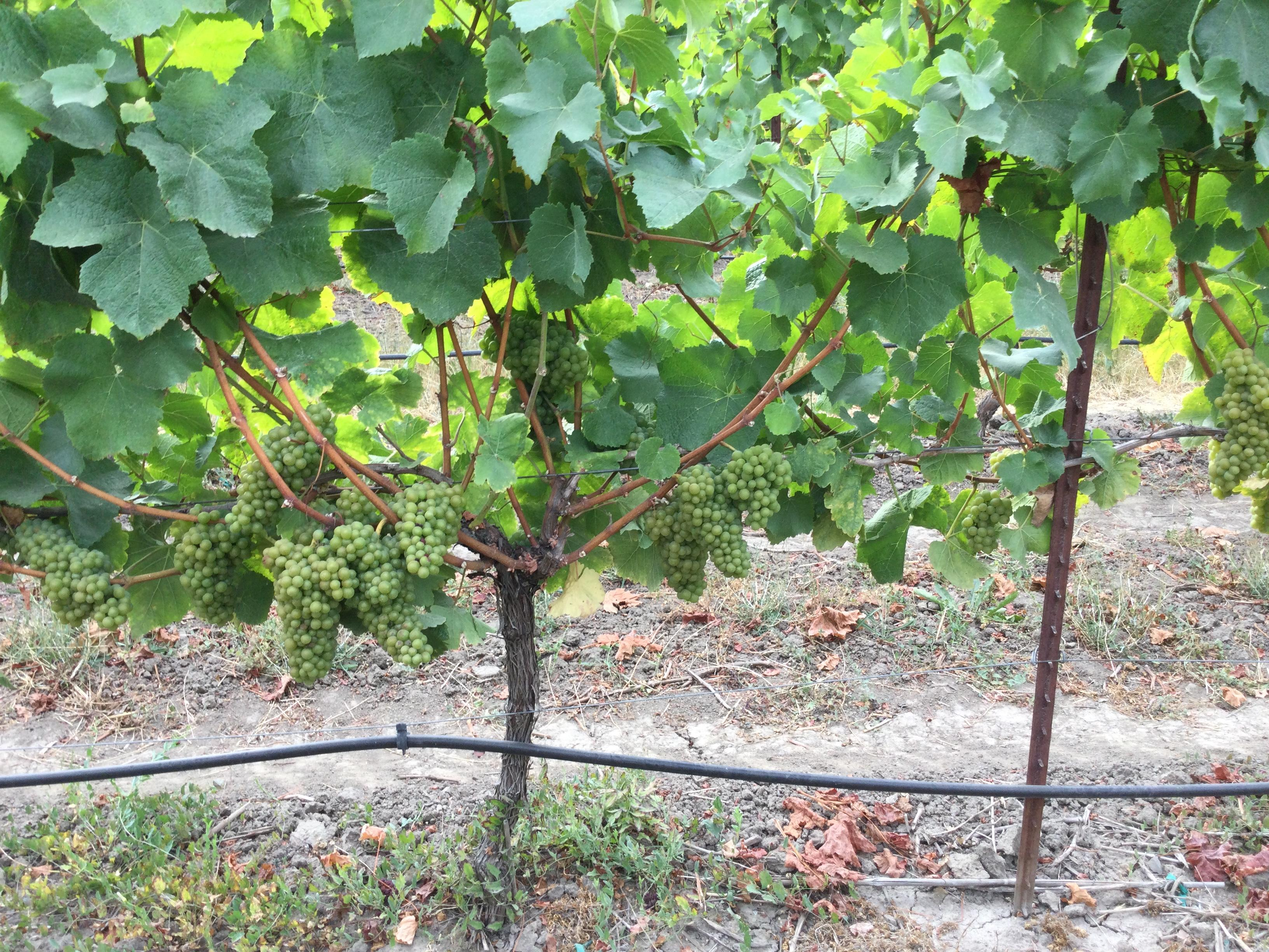leaf: (31, 155, 210, 336), (230, 30, 393, 195), (128, 72, 273, 236), (344, 217, 501, 324), (488, 47, 603, 181), (43, 333, 161, 458), (204, 197, 341, 304), (847, 234, 968, 349), (372, 132, 474, 254), (656, 341, 752, 449), (1068, 103, 1162, 203), (254, 321, 378, 392), (999, 69, 1087, 167), (992, 0, 1087, 86), (914, 102, 1007, 176), (1194, 0, 1268, 93), (629, 146, 712, 228), (163, 14, 262, 82), (526, 203, 593, 294), (112, 322, 202, 389), (1012, 272, 1080, 360), (79, 0, 225, 40), (978, 207, 1059, 272), (935, 40, 1011, 109), (604, 328, 667, 403), (352, 0, 434, 56), (1119, 0, 1194, 61), (473, 413, 531, 491), (615, 14, 676, 87), (0, 82, 44, 177), (836, 223, 908, 274), (0, 5, 47, 83), (61, 483, 118, 546), (129, 576, 190, 634), (607, 531, 664, 590), (582, 384, 635, 446), (1080, 454, 1140, 508), (0, 445, 52, 505), (997, 449, 1063, 495), (928, 539, 988, 588), (126, 522, 174, 576), (161, 391, 213, 438), (233, 567, 273, 624), (507, 0, 576, 32), (0, 379, 39, 433), (78, 459, 132, 496), (635, 436, 680, 480), (762, 394, 801, 435), (487, 37, 510, 62), (248, 351, 262, 369), (737, 434, 741, 439), (133, 446, 136, 448), (750, 436, 751, 440), (147, 447, 147, 448)
